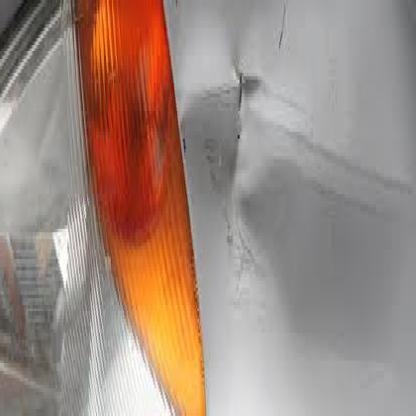dent: (194, 43, 284, 300)
